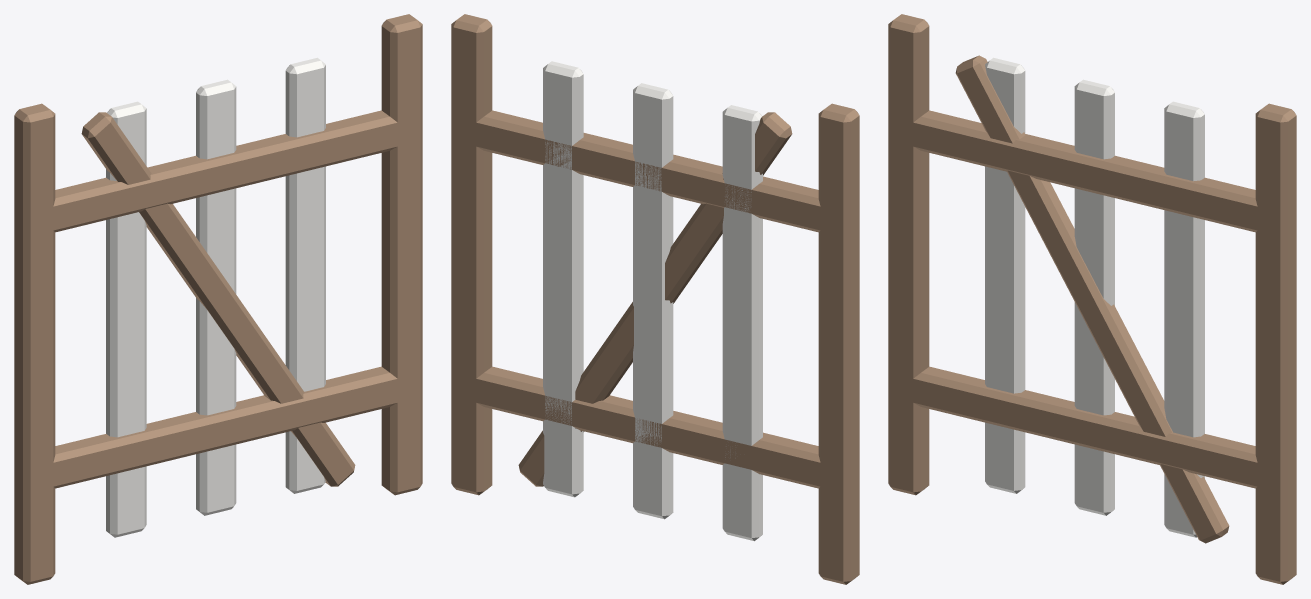
File: SM_Gate.fbx
3 renders of one model, left to right at view 1: azimuth 30°, elevation 25°; view 2: azimuth 150°, elevation 25°; view 3: azimuth 330°, elevation 25°, orthographic.
Visible parts, largest first — view 1: Gate; view 2: Gate; view 3: Gate.
Part boxes in pixels (bbox=[...]): Gate: bbox=[14, 14, 422, 584]; Gate: bbox=[451, 14, 859, 584]; Gate: bbox=[888, 14, 1296, 584].
Bounding box in the file's own units: 98 × 110 × 6.
